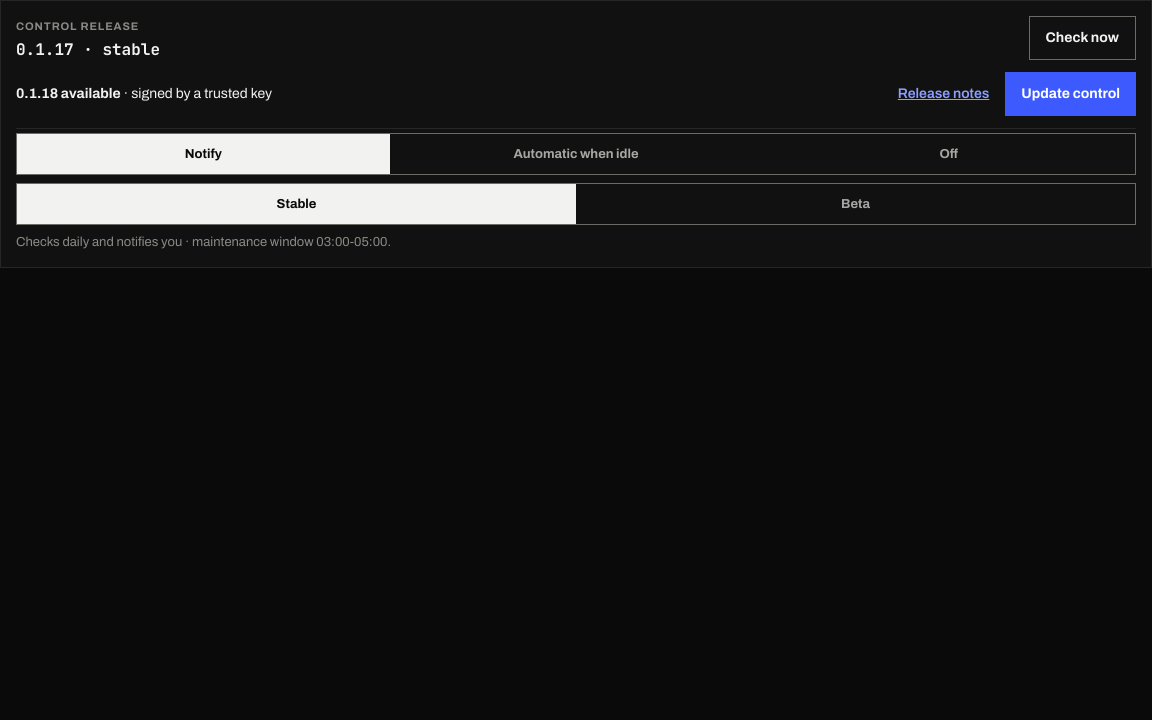
Test: ControlReleaseCard › shows the installed and offered signed release, and updates only after confirmation
The width and height of the screenshot is (1152, 720).
Expected: the text "0.1.17 · stable" is shown, left=16, top=40, right=160, bottom=60
Expected: the text "0.1.18 available" is shown, left=16, top=86, right=121, bottom=101
Click the button "Update control" at (1071, 94), box left=1005, top=72, right=1136, bottom=116
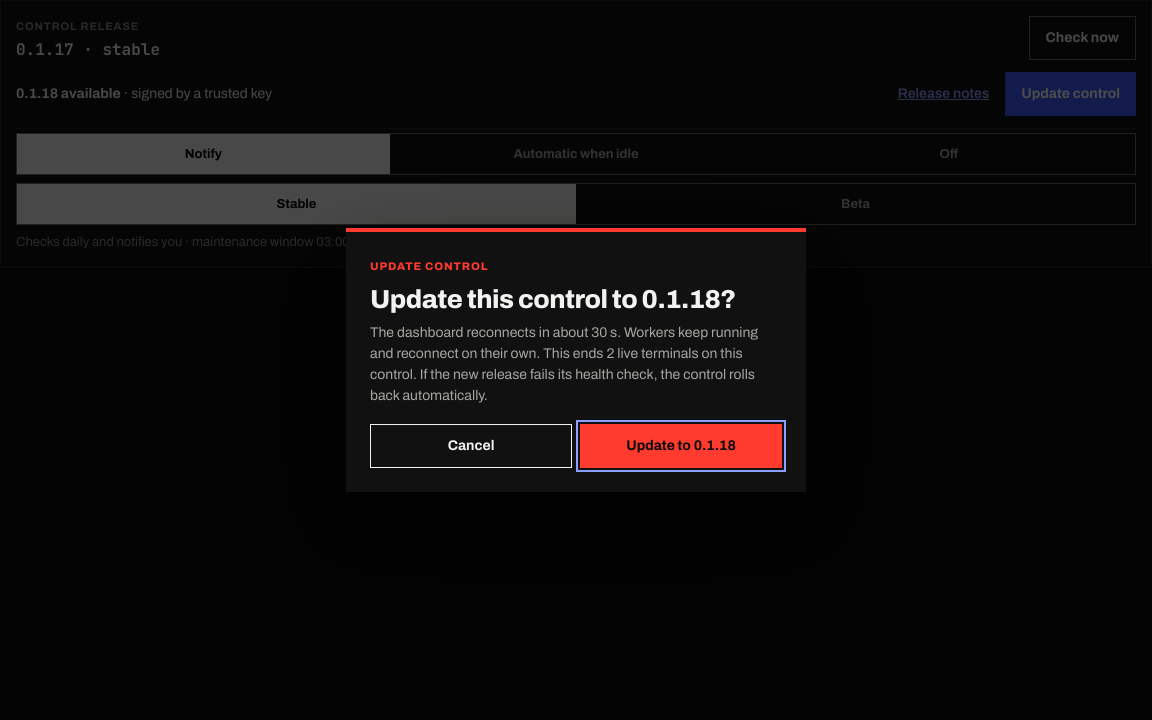
Now the text "This ends 2 live terminals on this control." is shown, box left=370, top=346, right=743, bottom=382
Now the text "dashboard reconnects" is shown, box left=370, top=325, right=758, bottom=361
Click the button "Cancel" at (471, 446), box left=370, top=424, right=572, bottom=468
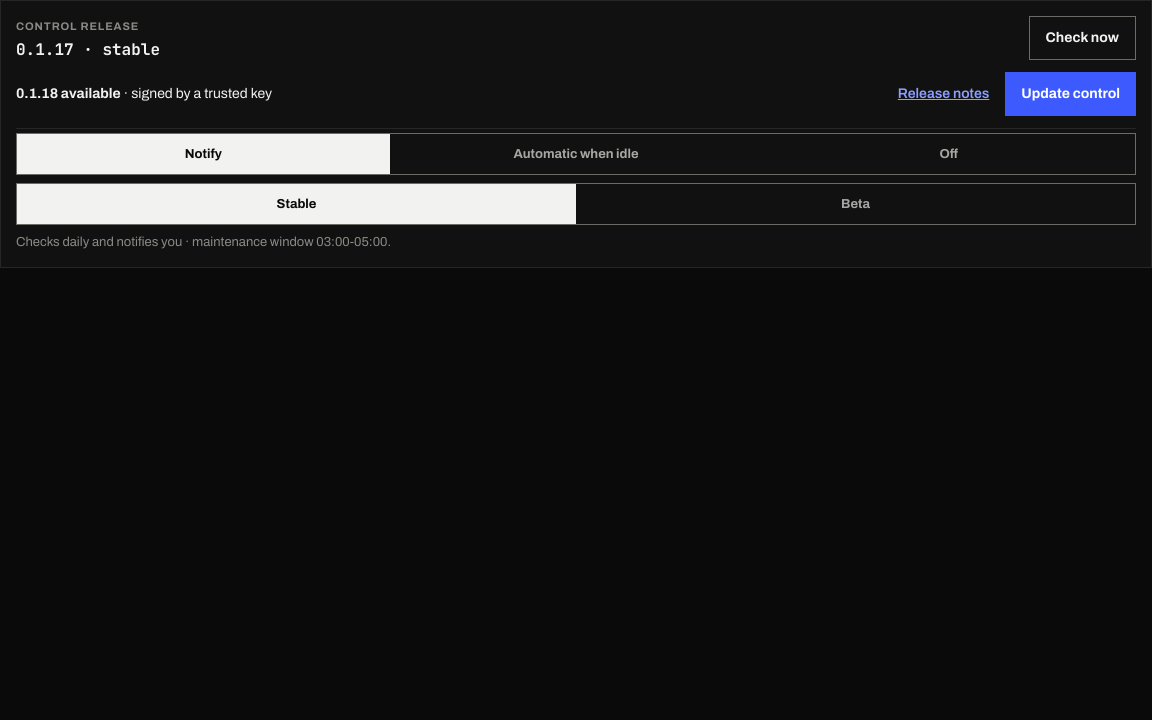
Click the button "Update control" at (1071, 94), box left=1005, top=72, right=1136, bottom=116
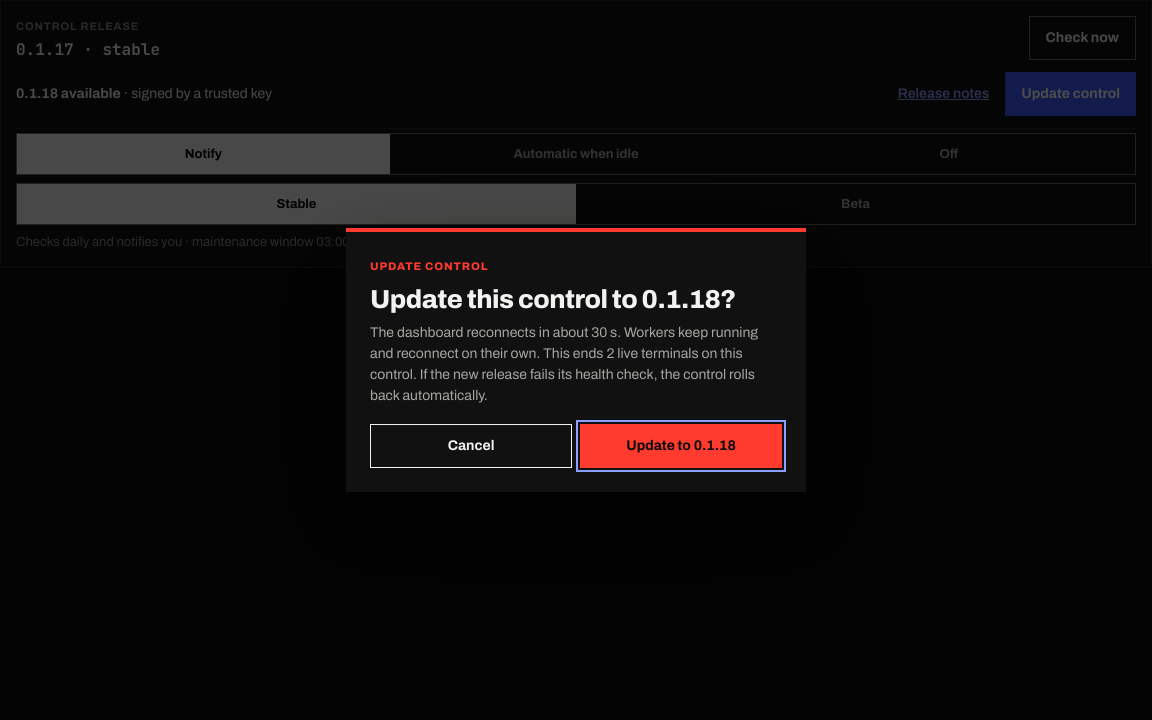
Click the button "Update to 0.1.18" at (681, 446), box left=580, top=424, right=782, bottom=468
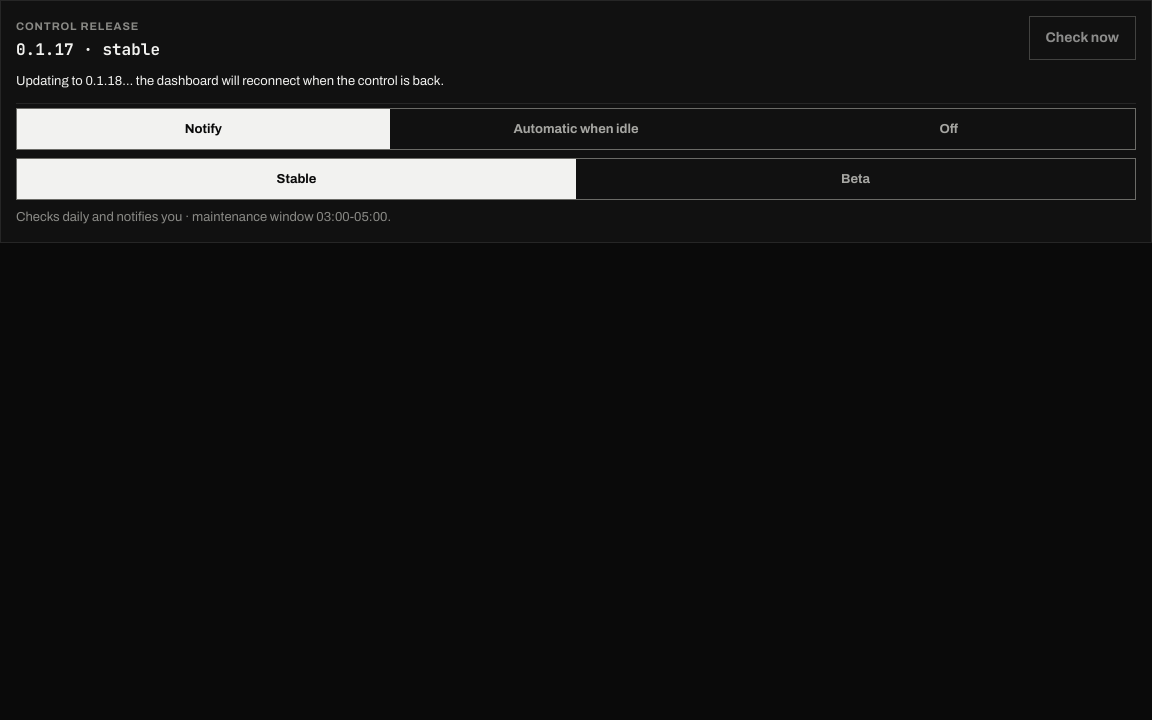
Now the text "Updating to 0.1.18… the dashboard will reconnect when the control is back." is shown, box left=16, top=74, right=444, bottom=88
